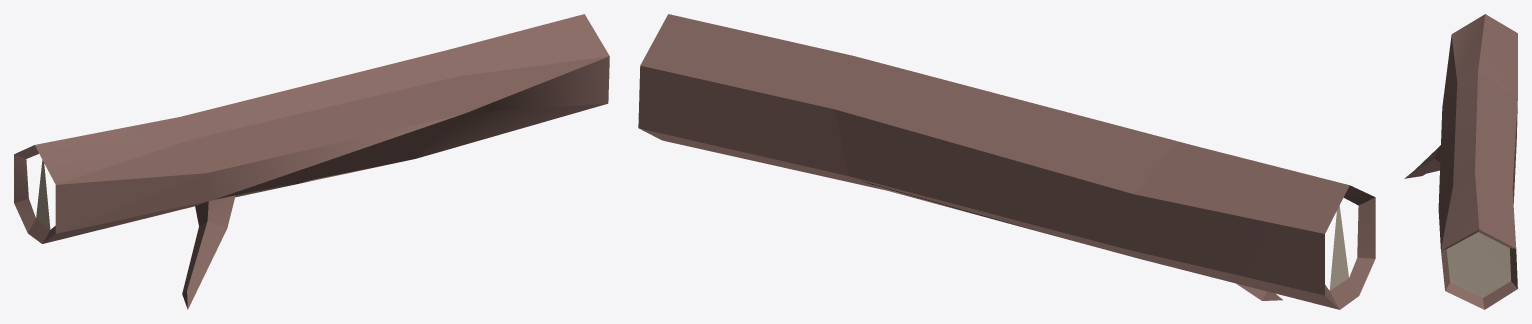
File: fallentree1.gltf
3 views of the same model, side by side, from view 1: azimuth 30°, elevation 25°; view 2: azimuth 150°, elevation 25°; view 3: azimuth 270°, elevation 25° (orthographic). The views are drawn at different scales.
Visible parts, largest first — view 1: FallenTree_1_1_LOD0; view 2: FallenTree_1_1_LOD0; view 3: FallenTree_1_1_LOD0.
Boxes of the visible parts, bbox=[...] form: FallenTree_1_1_LOD0: bbox=[14, 14, 609, 309]; FallenTree_1_1_LOD0: bbox=[638, 14, 1375, 309]; FallenTree_1_1_LOD0: bbox=[1404, 14, 1517, 309].
Size of the model in its own units: 3.34 by 0.8945 by 0.7416.
